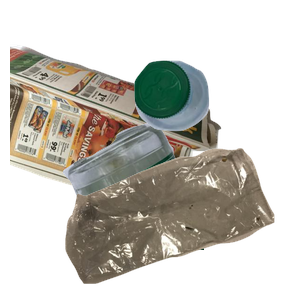glass: (60, 120, 300, 300)
paper: (10, 42, 224, 222)
plastic: (132, 58, 300, 182)
trash: (63, 145, 300, 300)
